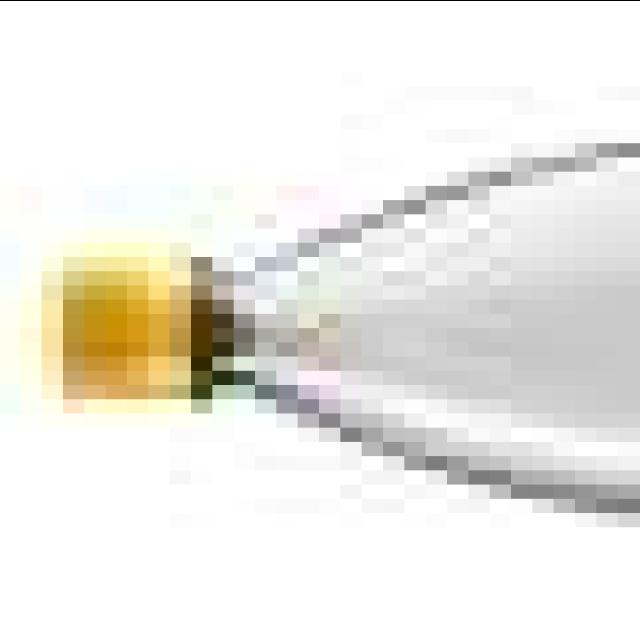neck: (15, 117, 635, 525)
